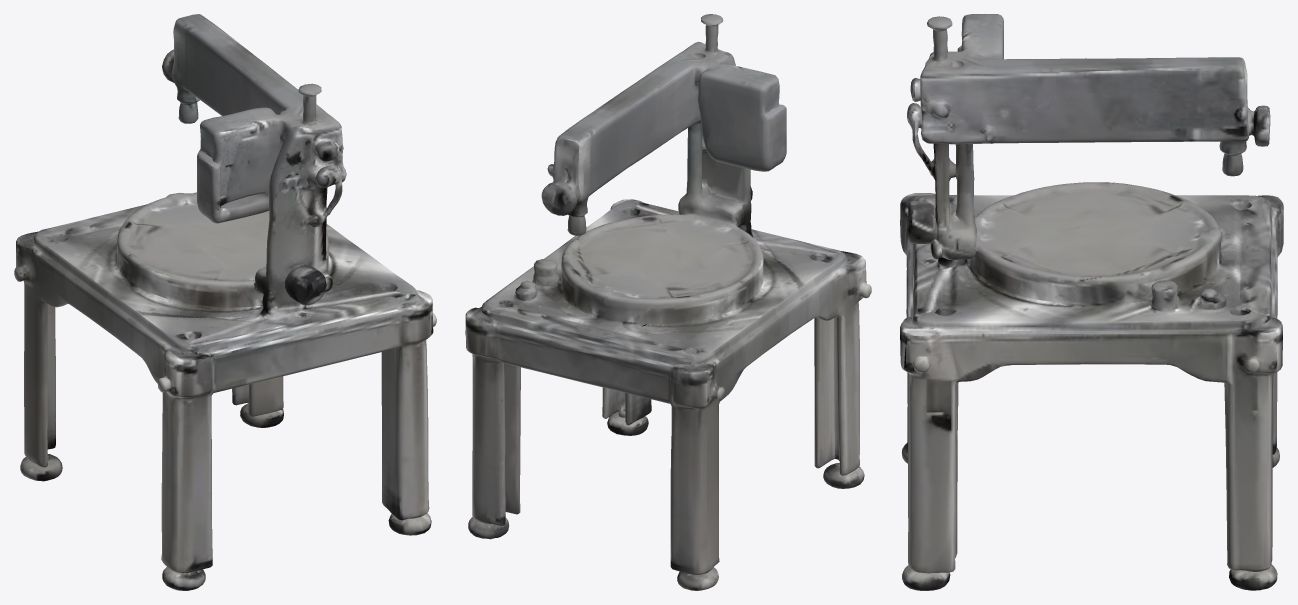
File: bandsaw-meat.glb
3 views of the same model, side by side, from view 1: azimuth 30°, elevation 25°; view 2: azimuth 150°, elevation 25°; view 3: azimuth 270°, elevation 25° (orthographic). The views are drawn at different scales.
Parts seen in each view (by area): view 1: cowninja-bandsaw-meat; view 2: cowninja-bandsaw-meat; view 3: cowninja-bandsaw-meat.
Boxes of the visible parts, <box> form: cowninja-bandsaw-meat: <box>14,14,436,590</box>; cowninja-bandsaw-meat: <box>465,14,871,590</box>; cowninja-bandsaw-meat: <box>900,14,1283,590</box>.
Size of the model in its own units: 1.18 by 1.89 by 1.28.
Materials: 1 (1 with a texture image).
